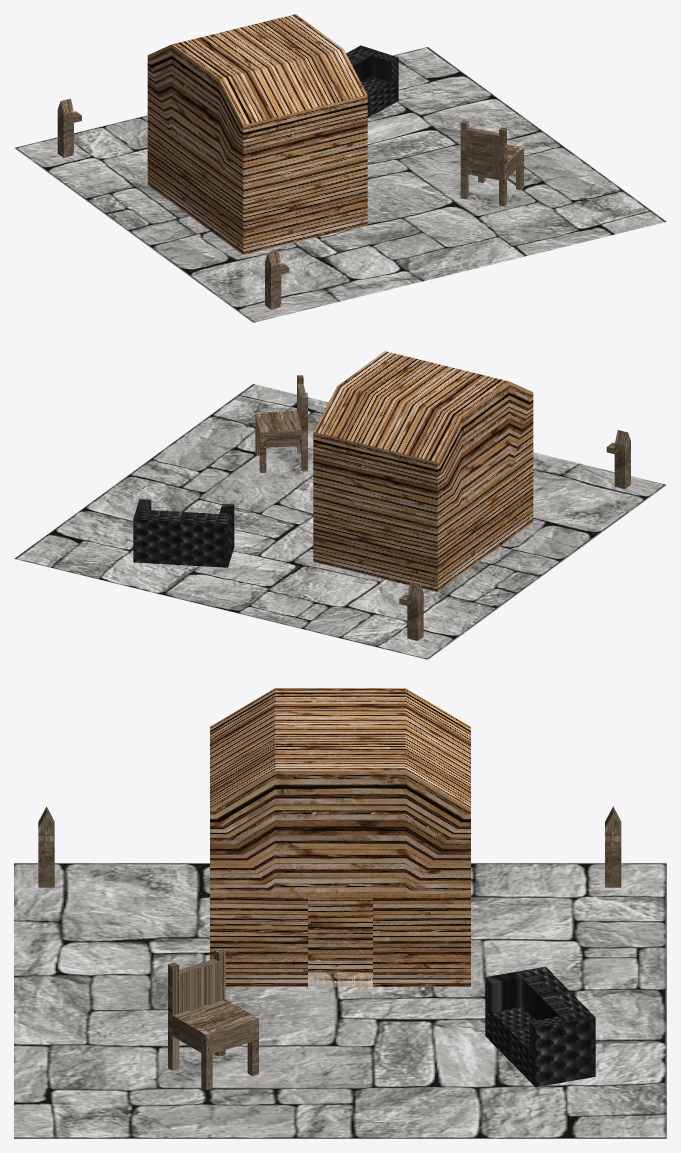
File: casa.fbx
The picture shows the model from 3 angles, top to bottom: view 1: azimuth 30°, elevation 25°; view 2: azimuth 150°, elevation 25°; view 3: azimuth 270°, elevation 25°; orthographic projection. The views are drawn at different scales.
Visible parts, largest first — view 1: Plano, Cube, Cubo.003, Cubo.002, Cubo.001, Cubo; view 2: Plano, Cube, Cubo.002, Cubo.003, Cubo.001, Cubo; view 3: Plano, Cube, Cubo.002, Cubo.003, Cubo, Cubo.001.
Part boxes in pixels (box(x1,y1,x2,y2)): Plano: box(14, 47, 666, 322); Cube: box(147, 14, 367, 254); Cubo.003: box(460, 120, 523, 206); Cubo.002: box(346, 45, 398, 117); Cubo.001: box(57, 98, 81, 157); Cubo: box(265, 250, 289, 309); Plano: box(14, 384, 666, 659); Cube: box(313, 351, 533, 591); Cubo.002: box(133, 499, 234, 567); Cubo.003: box(255, 375, 307, 473); Cubo.001: box(399, 582, 423, 640); Cubo: box(606, 430, 630, 488); Plano: box(14, 863, 666, 1138); Cube: box(210, 688, 470, 986); Cubo.002: box(485, 966, 595, 1087); Cubo.003: box(168, 948, 258, 1090); Cubo: box(38, 806, 54, 887); Cubo.001: box(605, 806, 621, 887).
Bounding box in the file's own units: 2000 × 731 × 2000.
6 materials, 6 textured.
